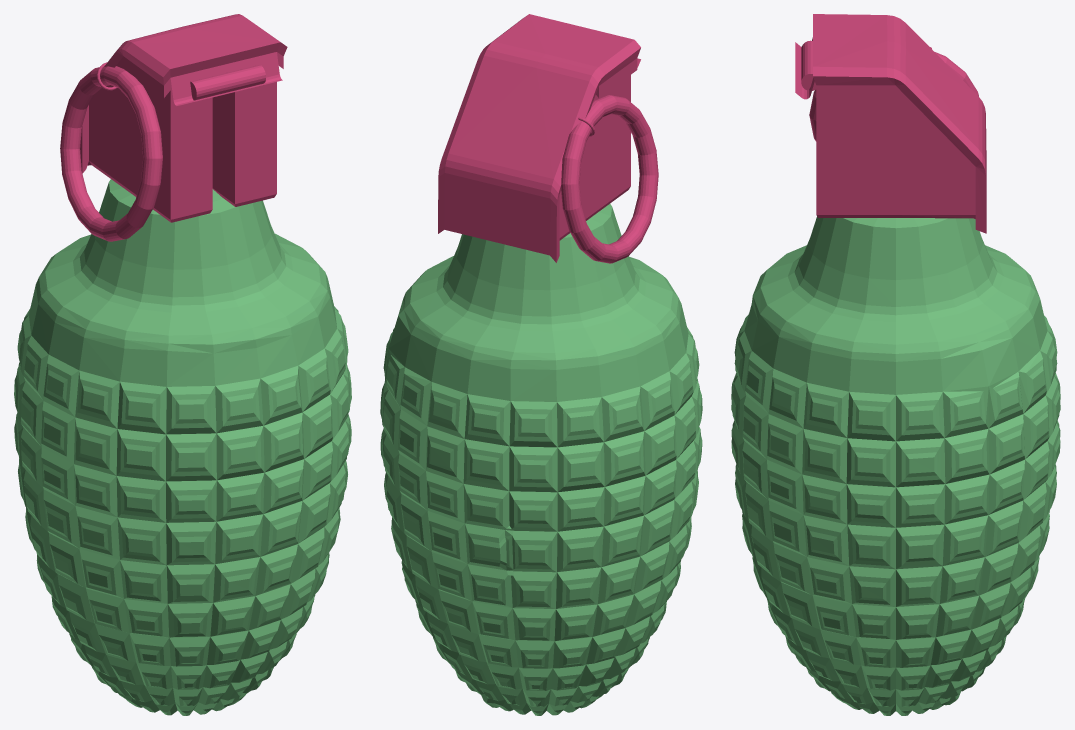
Rendered from full_27_coarse.glb.
3 renders of one model, left to right at view 1: azimuth 30°, elevation 25°; view 2: azimuth 150°, elevation 25°; view 3: azimuth 270°, elevation 25°, orthographic. The views are drawn at different scales.
Parts seen in each view (by area): view 1: world; view 2: world; view 3: world.
Boxes of the visible parts, left/top/right/bottom form: world: left=14, top=14, right=351, bottom=715; world: left=380, top=14, right=702, bottom=715; world: left=731, top=14, right=1060, bottom=715.
Size of the model in its own units: 0.3794 by 0.8439 by 0.3794.
